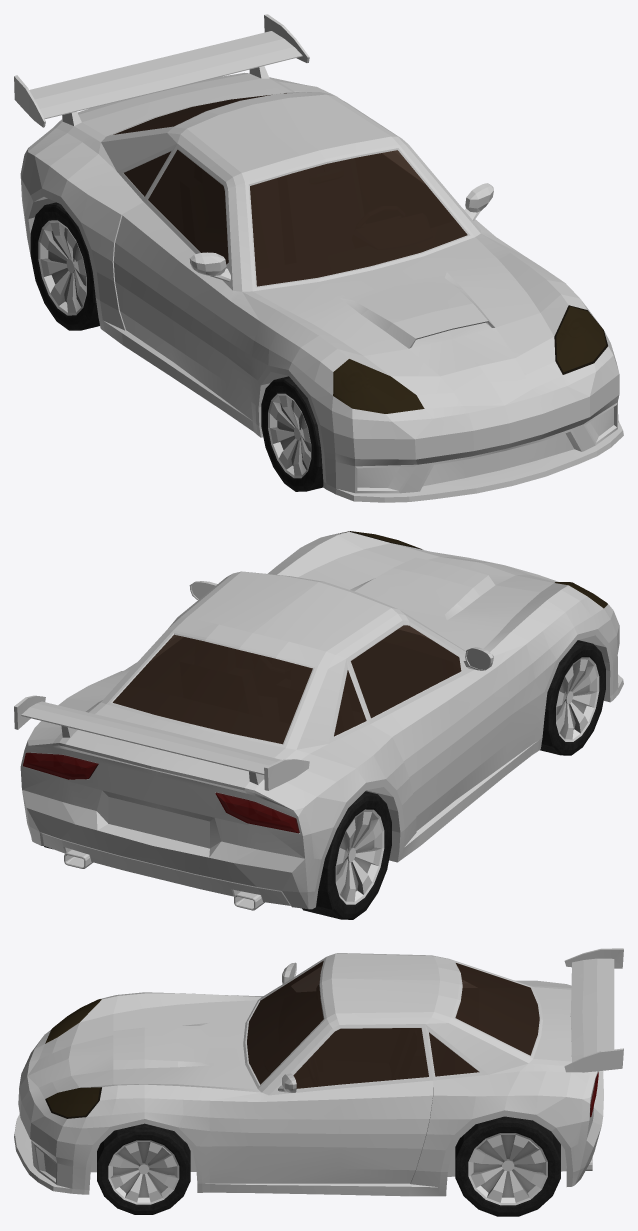
3 renders of one model, top to bottom at view 1: azimuth 30°, elevation 25°; view 2: azimuth 150°, elevation 25°; view 3: azimuth 270°, elevation 25°, orthographic. The views are drawn at different scales.
Visible parts, largest first — view 1: Body, Glass, WheelRR, WheelFR; view 2: Body, Glass, WheelRR, WheelFR; view 3: Body, Glass, WheelRL, WheelFL.
Boxes of the visible parts, left/top/right/bottom form: Body: left=14, top=14, right=623, bottom=502; Glass: left=113, top=93, right=607, bottom=413; WheelRR: left=30, top=202, right=99, bottom=330; WheelFR: left=261, top=376, right=323, bottom=491; Body: left=14, top=531, right=623, bottom=910; Glass: left=23, top=531, right=607, bottom=833; WheelRR: left=302, top=791, right=391, bottom=919; WheelFR: left=540, top=640, right=605, bottom=755; Body: left=14, top=948, right=623, bottom=1196; Glass: left=45, top=961, right=598, bottom=1118; WheelRL: left=455, top=1116, right=560, bottom=1216; WheelFL: left=97, top=1123, right=190, bottom=1214.
Size of the model in its own units: 193 by 132 by 408.
